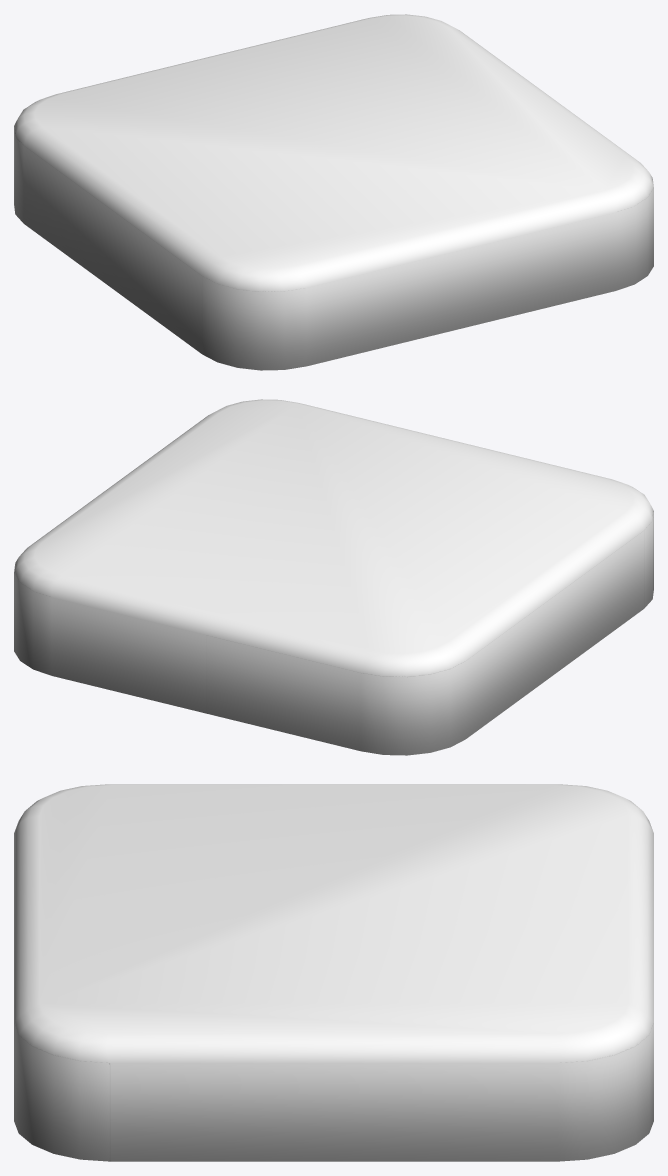
Rendered from arrow_tile.fbx.
The picture shows the model from 3 angles, top to bottom: view 1: azimuth 30°, elevation 25°; view 2: azimuth 150°, elevation 25°; view 3: azimuth 270°, elevation 25°; orthographic projection. The views are drawn at different scales.
Parts seen in each view (by area): view 1: ArrowTile; view 2: ArrowTile; view 3: ArrowTile.
Part boxes in pixels (bbox=[...]): ArrowTile: bbox=[14, 14, 653, 370]; ArrowTile: bbox=[14, 399, 653, 755]; ArrowTile: bbox=[14, 784, 653, 1161].
Size of the model in its own units: 200 by 40.31 by 200.
